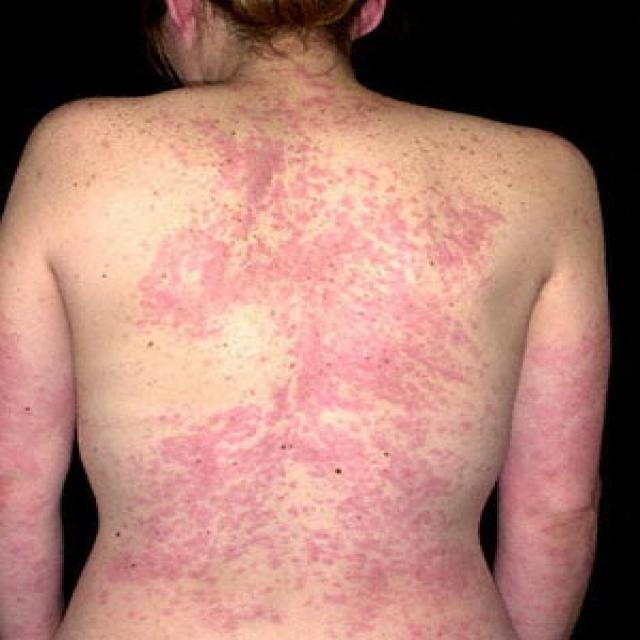hives: (61, 62, 530, 640), (495, 283, 609, 613), (2, 292, 71, 640)
